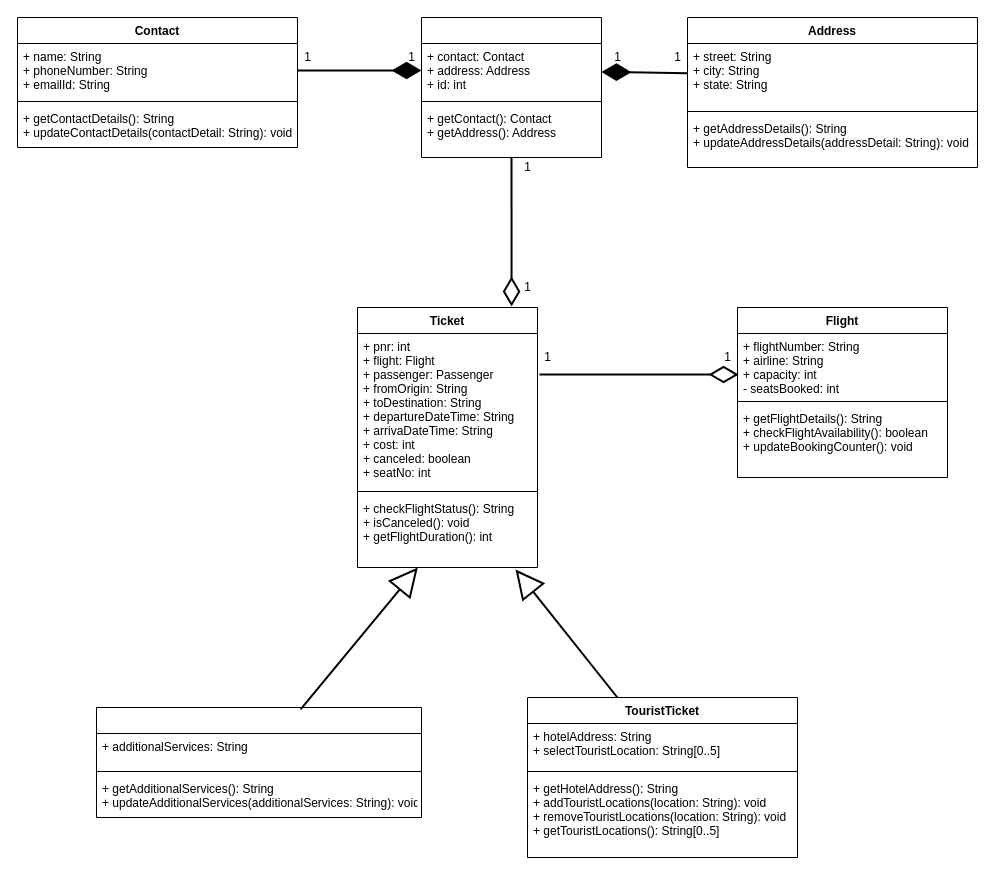
Image size: 995x878. Some labels were removed from this diagram. The box of each missing label's shape, as (x1, y1, x2, y2) in pixels:
Passenger: (420, 16, 602, 158)
RegularTicket: (96, 706, 422, 818)
